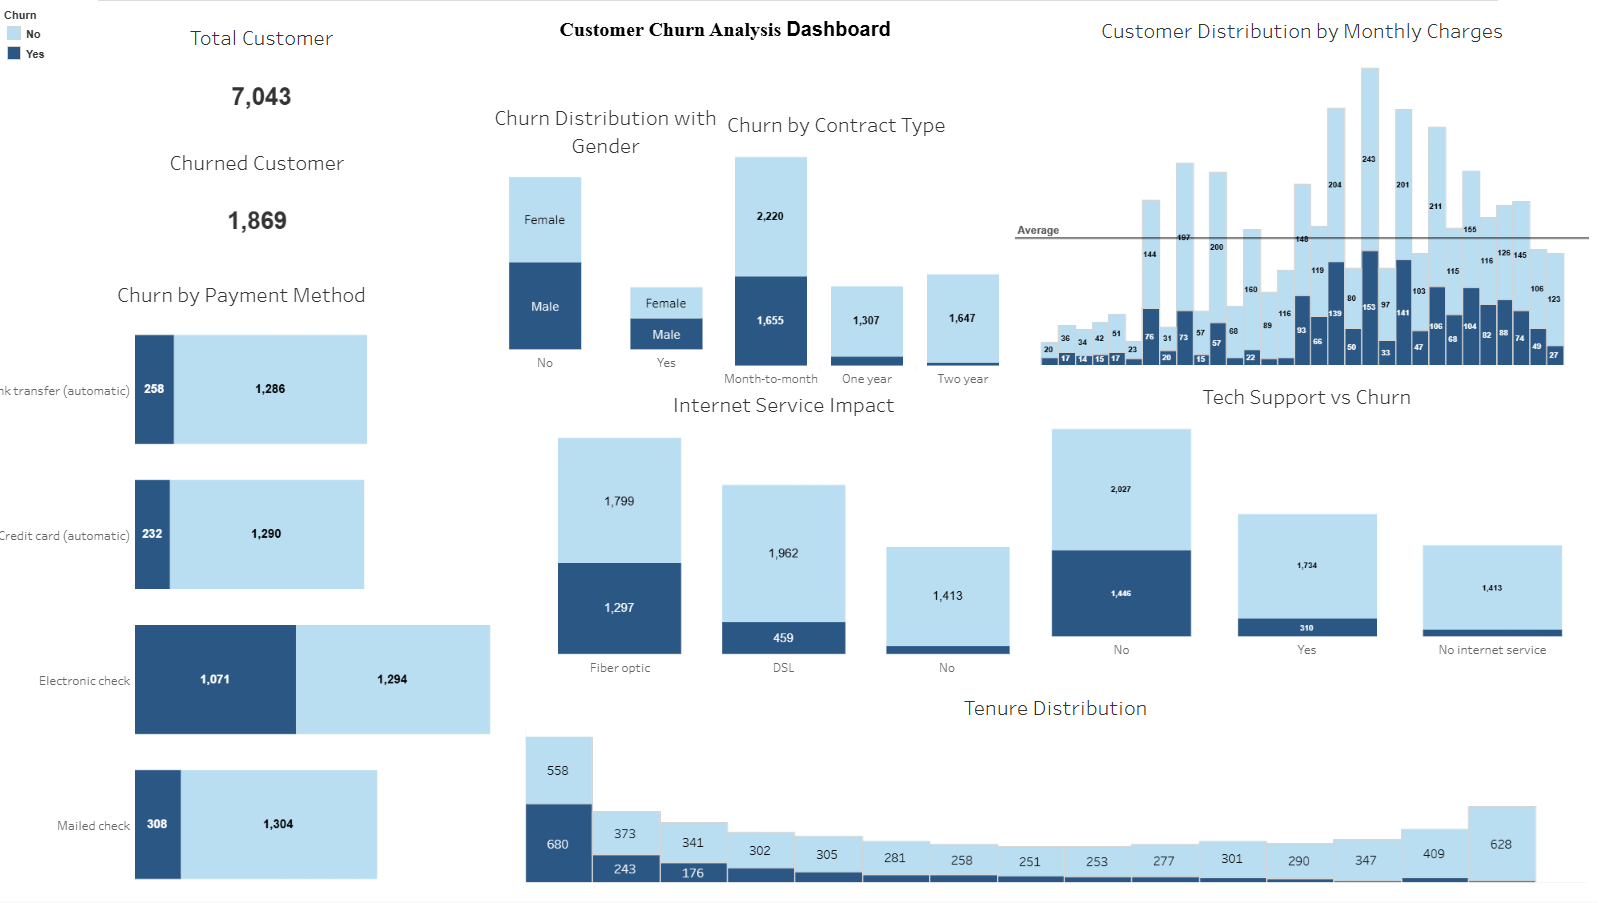

Layout of this report page (visuals, bound fields, positions):
{"tool":"tableau","page":{"name":"Dashboard 1","canvas":[1600,900],"ordinal":0},"visuals":[{"type":"legend","title":"Customer Distribution by Monthly Charges","param":"[federated.1ncij670rs8y7v1bxvnmh02ll4iu].[none:Churn:nk]","box":[6,8,140,56]},{"type":"worksheet","title":"heading","mark":"Automatic","box":[440,9,575,79]},{"type":"worksheet","title":"Customer Distribution by Monthly Charges","mark":"Bar","rows":["MonthlyCharges"],"cols":["Monthly Charges (bin)"],"box":[1017,9,574,355]},{"type":"worksheet","title":"Total Customer","mark":"Automatic","box":[13,16,501,116]},{"type":"worksheet","title":"Churn Distribution With Gender","mark":"Automatic","rows":["customerID"],"cols":["Churn"],"box":[486,96,243,274]},{"type":"worksheet","title":"Churn by Contract Type","mark":"Automatic","rows":["customerID"],"cols":["Contract"],"box":[725,103,288,283]},{"type":"worksheet","title":"Churned  Customer","mark":"Automatic","box":[12,141,494,115]},{"type":"worksheet","title":"Tech Support vs Churn","mark":"Automatic","rows":["customerID"],"cols":["TechSupport"],"box":[1031,375,556,300]},{"type":"worksheet","title":"Internet Service Impact","mark":"Automatic","rows":["customerID"],"cols":["InternetService"],"box":[540,383,491,292]},{"type":"worksheet","title":"Tenure Distribution","mark":"Automatic","rows":["tenure"],"cols":["Tenure (bin)"],"box":[527,686,1061,196]}]}

Visuals, with their boxes in screenshot pixels (x1, y1, x2, y2), scaled from the page's 1600x900 canvas onto the 1610x903 screenshot:
"Customer Distribution by Monthly Charges" legend: 6:8:147:64
"heading" worksheet: 443:9:1021:88
"Customer Distribution by Monthly Charges" worksheet (Bar marks): 1023:9:1601:365
"Total Customer" worksheet: 13:16:517:132
"Churn Distribution With Gender" worksheet: 489:96:734:371
"Churn by Contract Type" worksheet: 730:103:1019:387
"Churned  Customer" worksheet: 12:141:509:257
"Tech Support vs Churn" worksheet: 1037:376:1597:677
"Internet Service Impact" worksheet: 543:384:1037:677
"Tenure Distribution" worksheet: 530:688:1598:885
